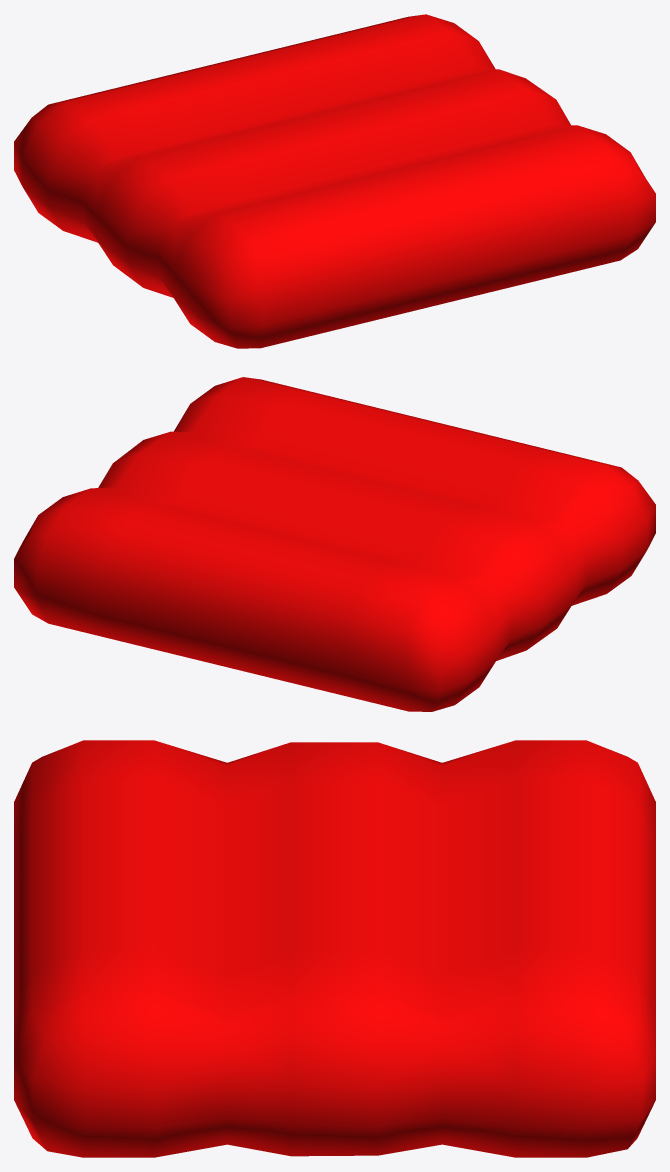
Rendered from SM_CastleSteps.FBX.
3 renders of one model, top to bottom at view 1: azimuth 30°, elevation 25°; view 2: azimuth 150°, elevation 25°; view 3: azimuth 270°, elevation 25°, orthographic. The views are drawn at different scales.
Parts seen in each view (by area): view 1: Step_low; view 2: Step_low; view 3: Step_low.
Part boxes in pixels (x1,y1,x2,y2): Step_low: [14, 14, 655, 348]; Step_low: [14, 377, 655, 711]; Step_low: [14, 740, 655, 1157].
Bounding box in the file's own units: 340 × 78.82 × 298.
